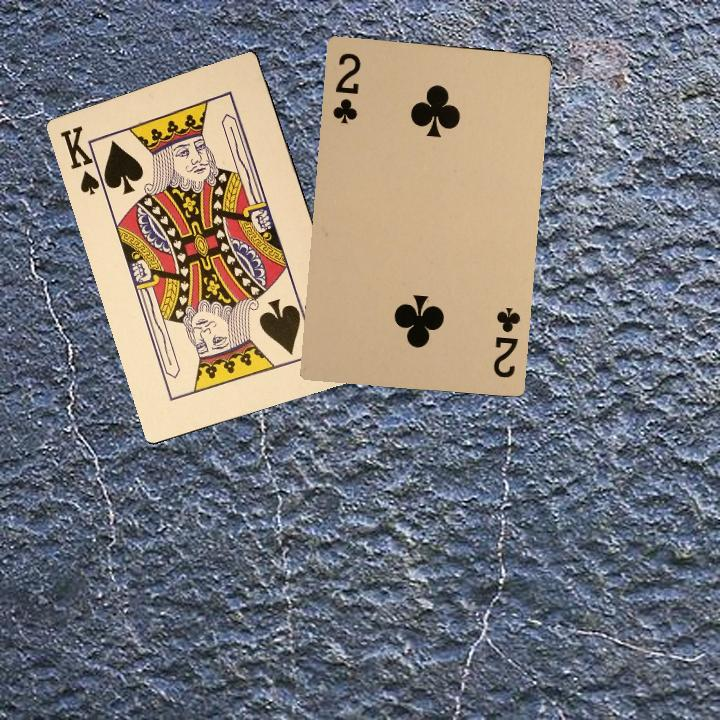2c: (329, 48, 363, 127), (489, 303, 523, 381)
Ks: (56, 122, 110, 198)
